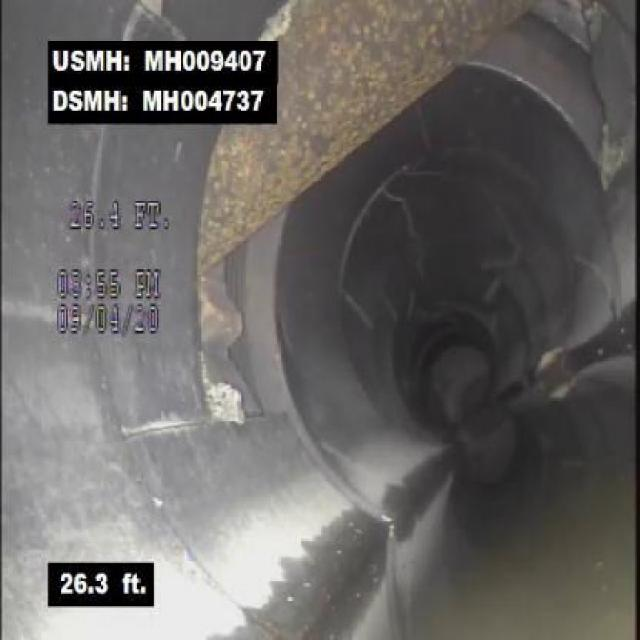Crack: (123, 414, 203, 446), (136, 3, 190, 39)
Joint offset: (534, 12, 614, 185)
Utility intrusion: (283, 2, 455, 162)
